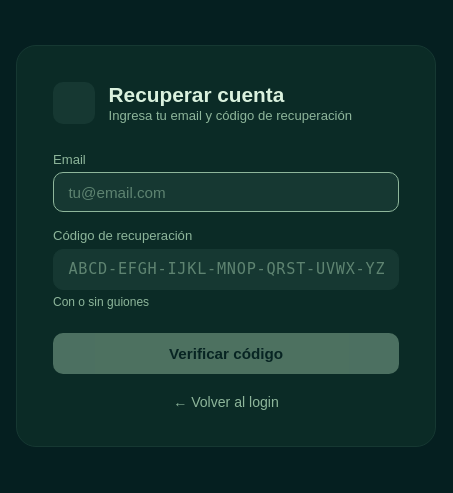
Test case: form step → newPassword step › shows an error when recovery data fetch fails
Type "user@test.com" into the field labelled "Email" at (226, 192), box [53,172,399,212]
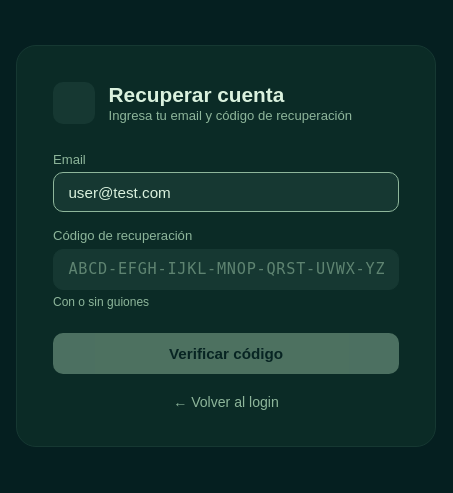
Type "BADCODE" into the field labelled "Código de recuperación" at (226, 269), box [53,249,399,290]
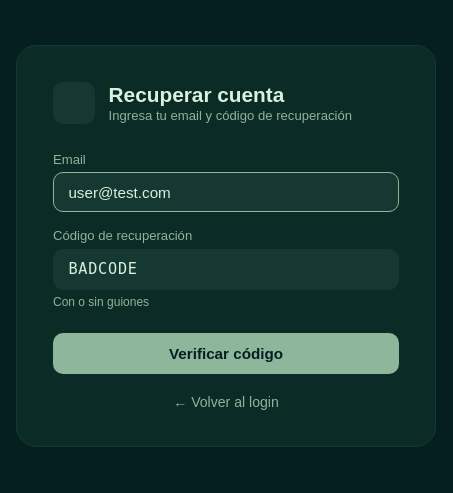
Click the button "Verificar código" at (226, 354), box [53,333,399,374]
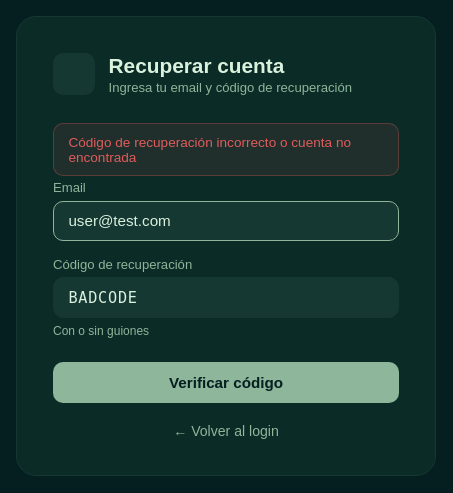
Expected: the field labelled "Email" is shown, [53,201,399,241]
Expected: the text "Código de recuperación incorrecto o cuenta no encontrada" is shown, [53,123,399,176]
